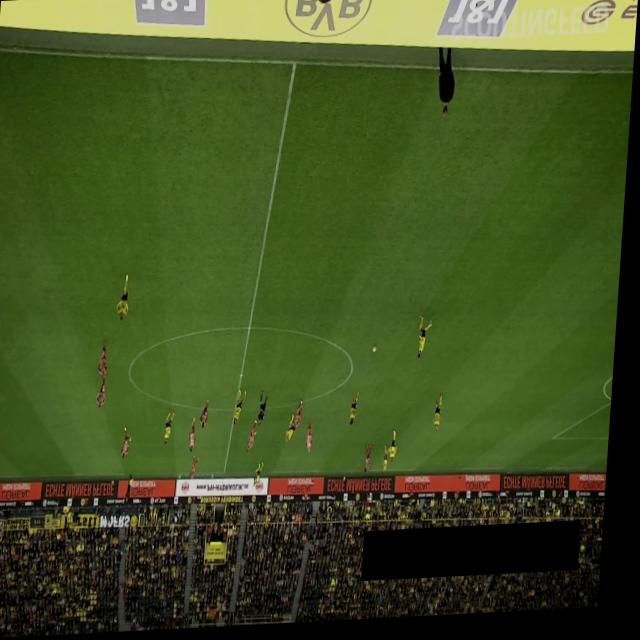player: (421, 318, 437, 363), (120, 275, 134, 321), (238, 391, 252, 427), (102, 341, 114, 379), (169, 411, 181, 446), (438, 398, 449, 436), (354, 394, 365, 429), (252, 420, 263, 455), (126, 427, 137, 461), (194, 418, 204, 454), (204, 400, 215, 431), (290, 416, 301, 446), (101, 377, 111, 410), (311, 423, 320, 457), (298, 403, 308, 433), (260, 463, 271, 490), (395, 434, 404, 466), (195, 457, 205, 481), (370, 448, 378, 477), (388, 448, 395, 479)
referee: (262, 394, 273, 428), (130, 475, 140, 504)
